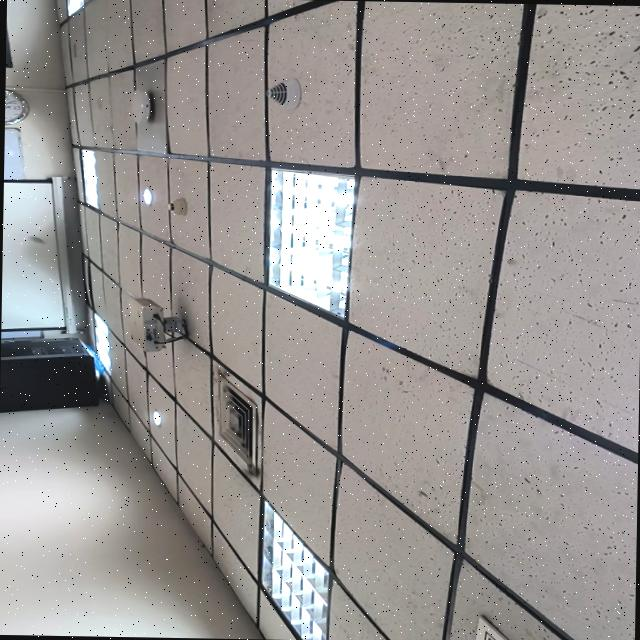Light: (265, 169, 356, 317), (261, 501, 328, 640), (79, 150, 98, 208), (92, 313, 109, 374), (65, 0, 83, 16), (141, 187, 153, 205), (149, 411, 161, 426)
Projector: (125, 296, 165, 351)
